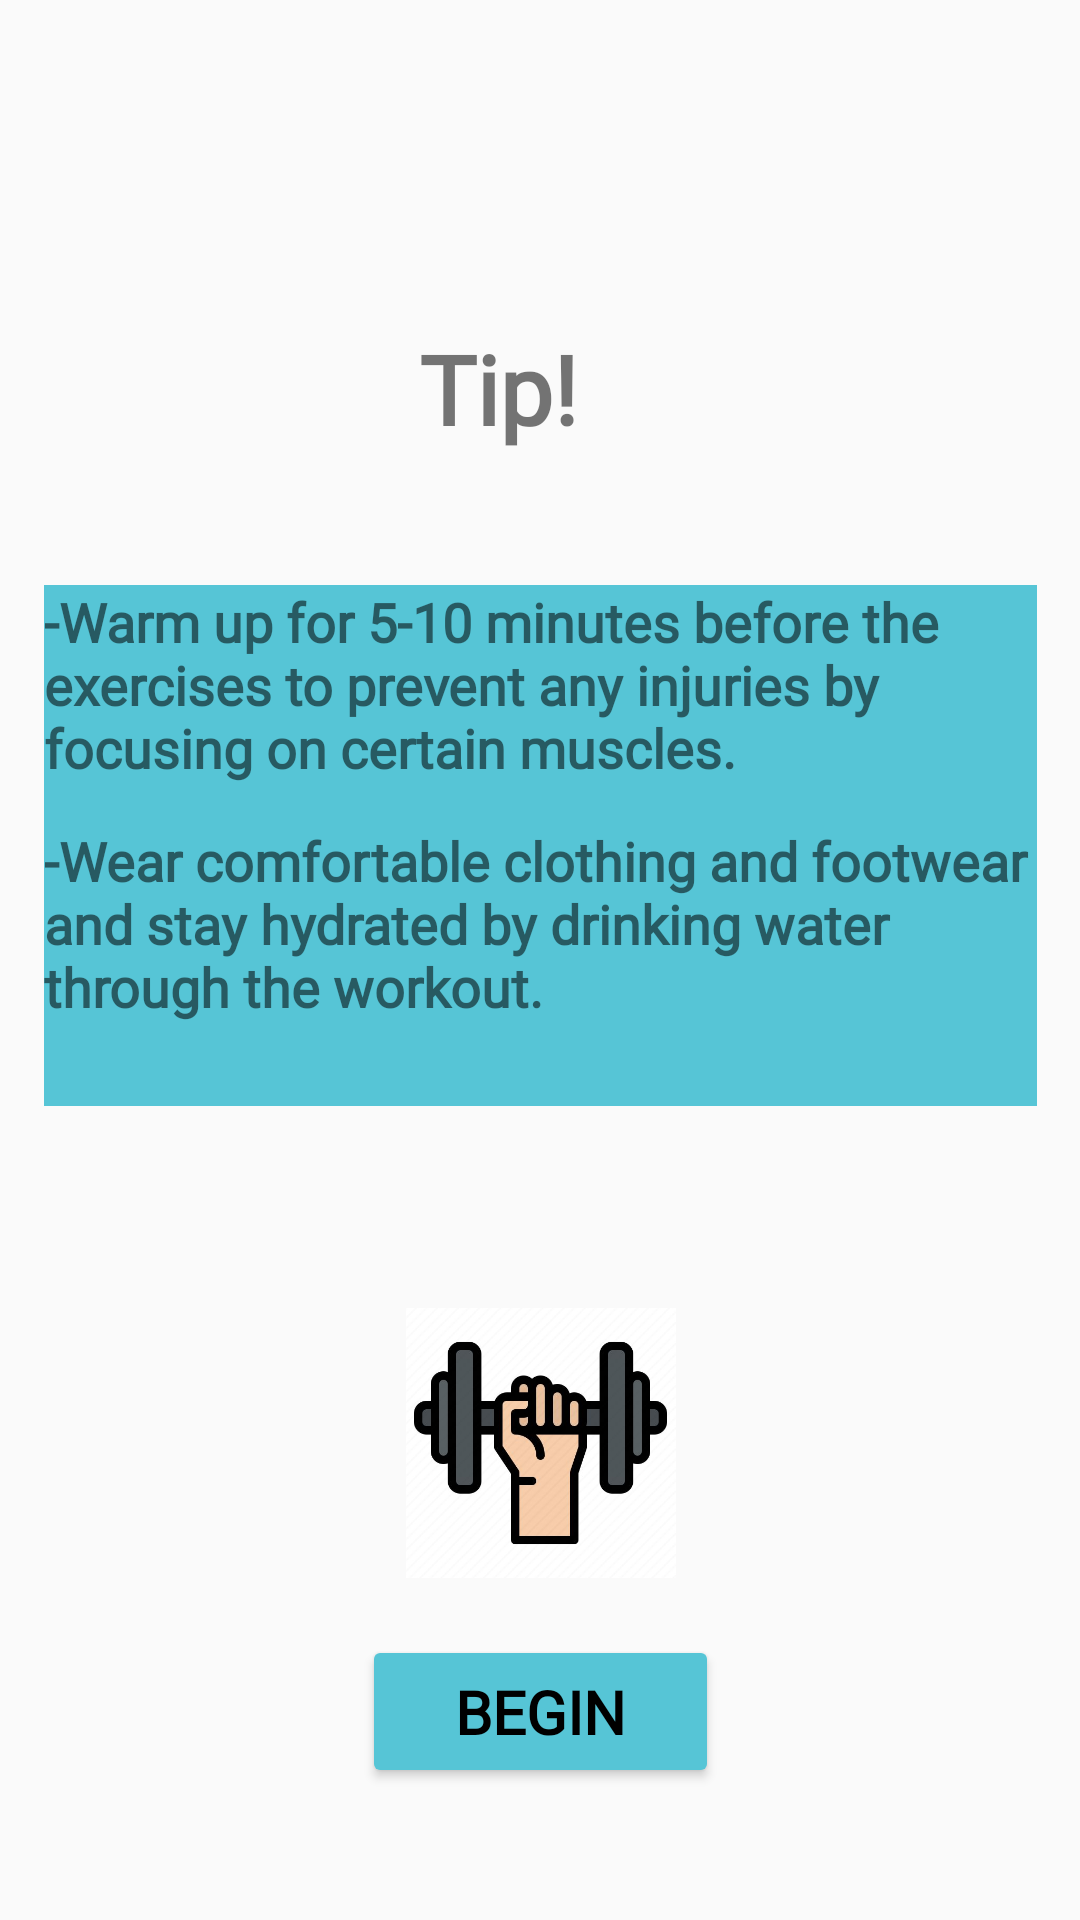

Named icons in this screenshot (1080 x 1920) and their bounding boxes, (x1, y1, x2, y2):
lifting weights: (414, 1342, 667, 1544)
